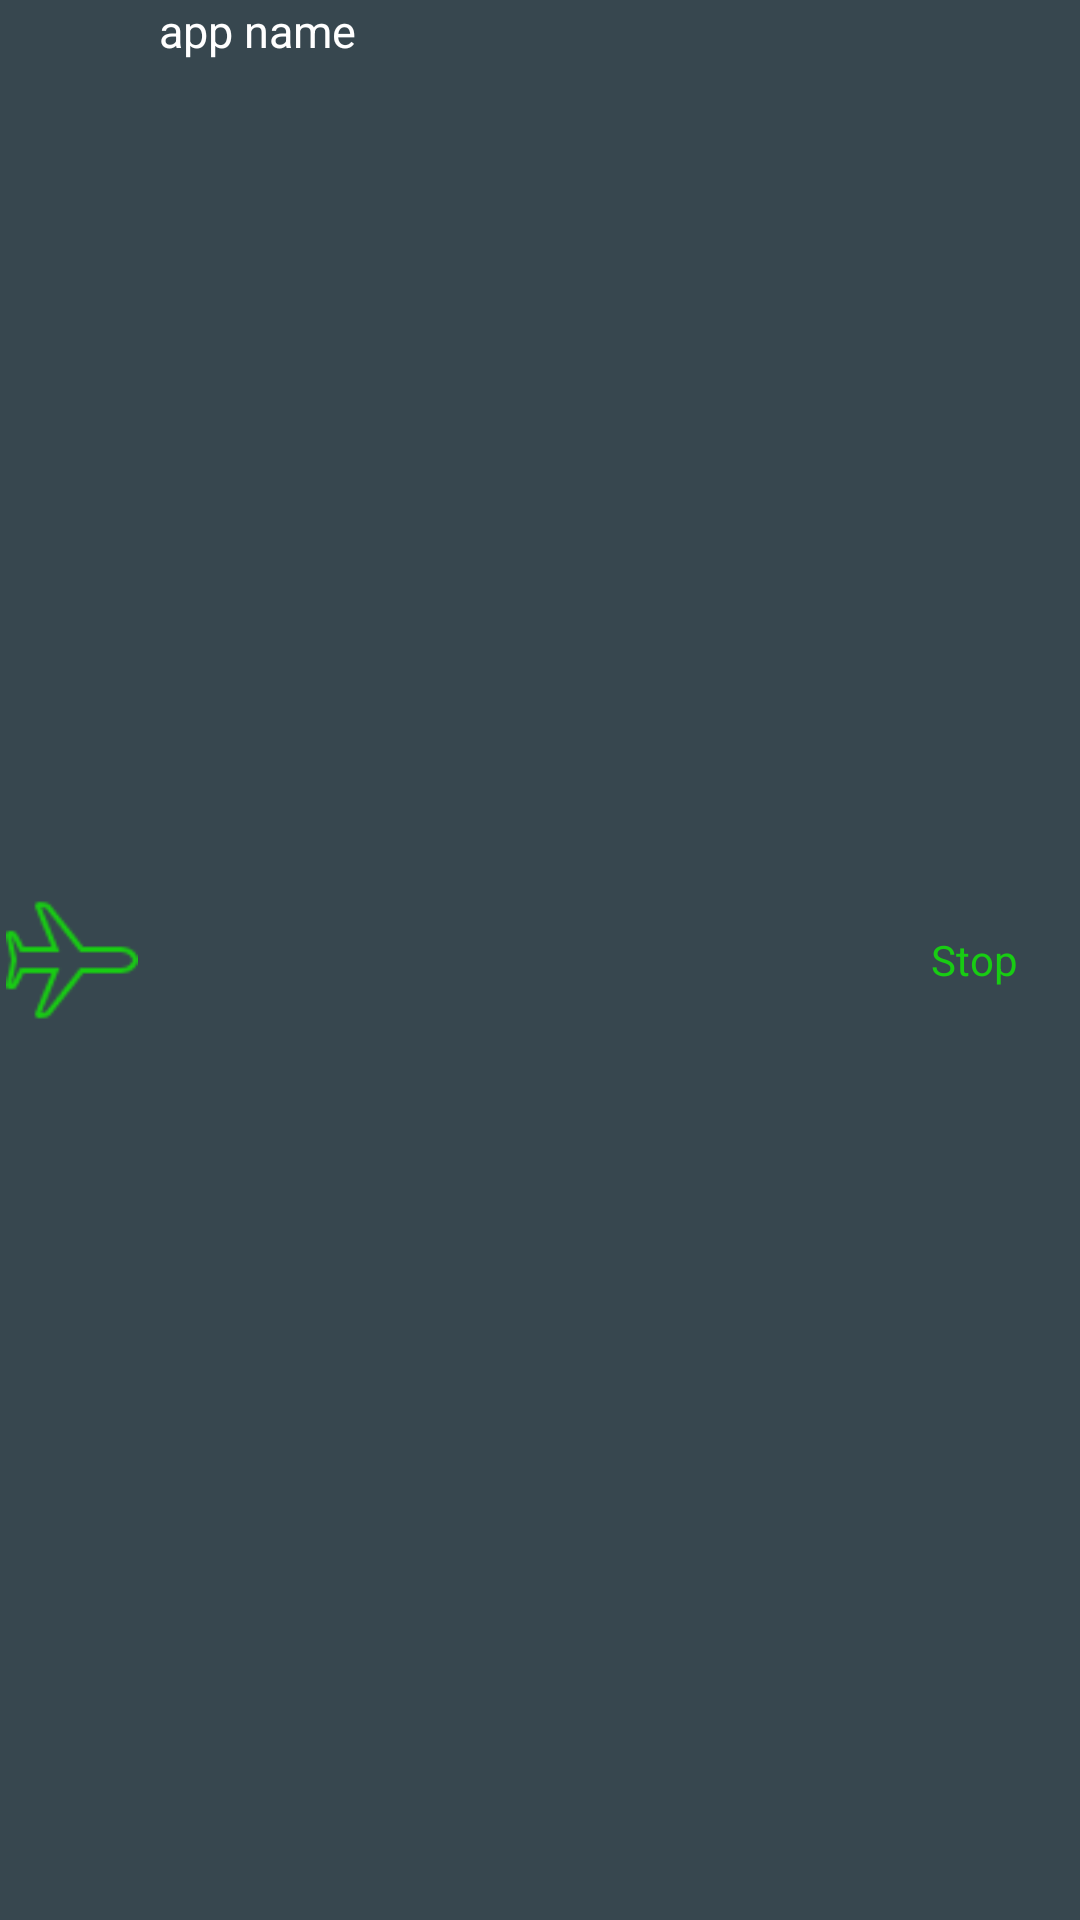

Icon click points for this 1080×1920 phone screenshot, format (x=x, y=y):
tool airplane on: (x=72, y=960)
